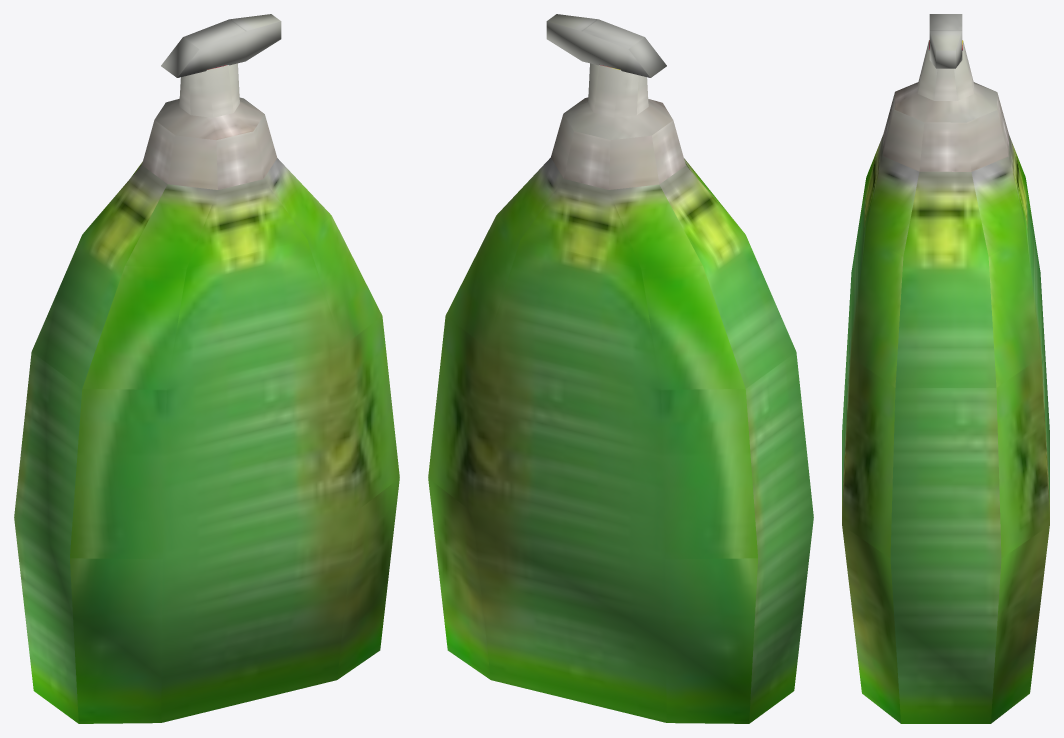
File: Hand_soap_03.glb
3 renders of one model, left to right at view 1: azimuth 30°, elevation 25°; view 2: azimuth 150°, elevation 25°; view 3: azimuth 270°, elevation 25°, orthographic.
Parts seen in each view (by area): view 1: Hand_soap_03; view 2: Hand_soap_03; view 3: Hand_soap_03.
Boxes of the visible parts, <box> form: Hand_soap_03: <box>14,14,399,723</box>; Hand_soap_03: <box>428,14,813,723</box>; Hand_soap_03: <box>842,14,1049,723</box>.
Bounding box in the file's own units: 0.0959 × 0.1771 × 0.0525.
1 material, 1 textured.
